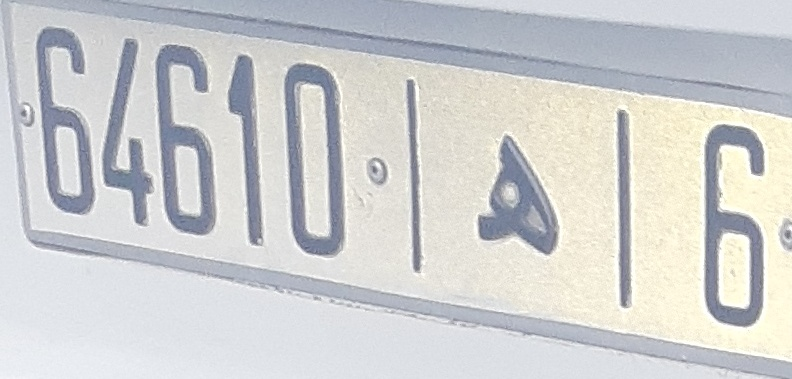0: (280, 58, 350, 261)
1: (223, 51, 269, 251)
4: (98, 34, 157, 229)
6: (700, 119, 771, 335), (153, 41, 221, 239), (34, 23, 101, 220)
h: (468, 124, 567, 264)
